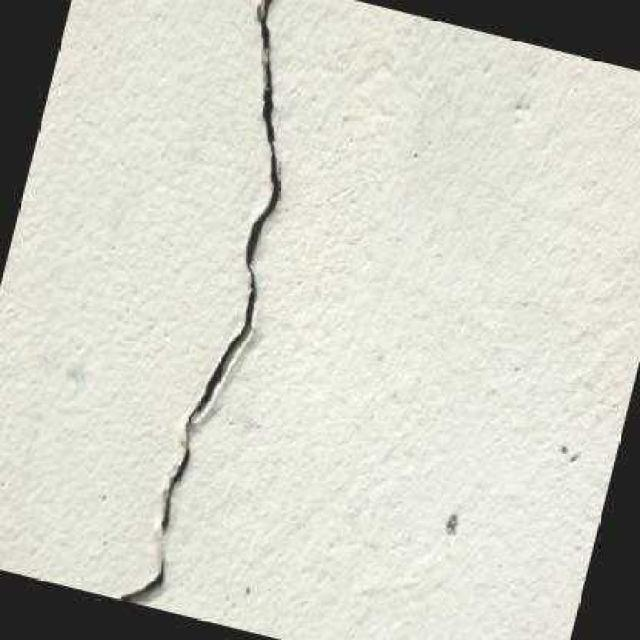D00: (108, 0, 289, 607)
